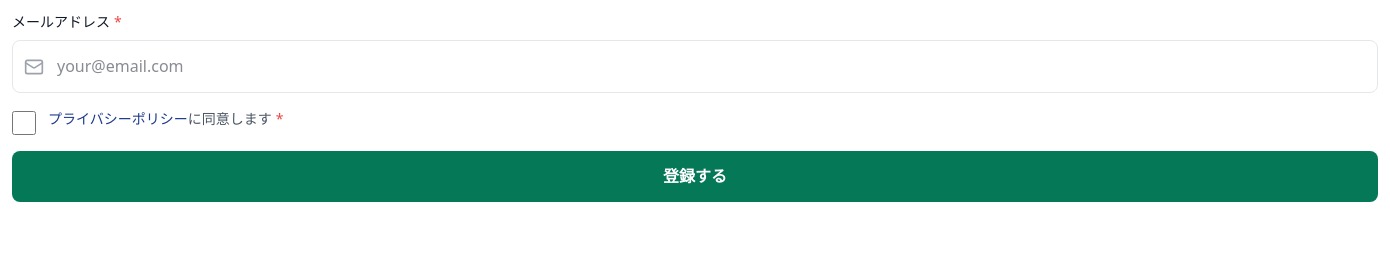
NewsletterSignupForm › should show validation error for invalid email
This screenshot has width=1390, height=275.
In the field labelled "メールアドレス*": (695, 67) top-left (12, 40), bottom-right (1378, 93), type "invalid-email"
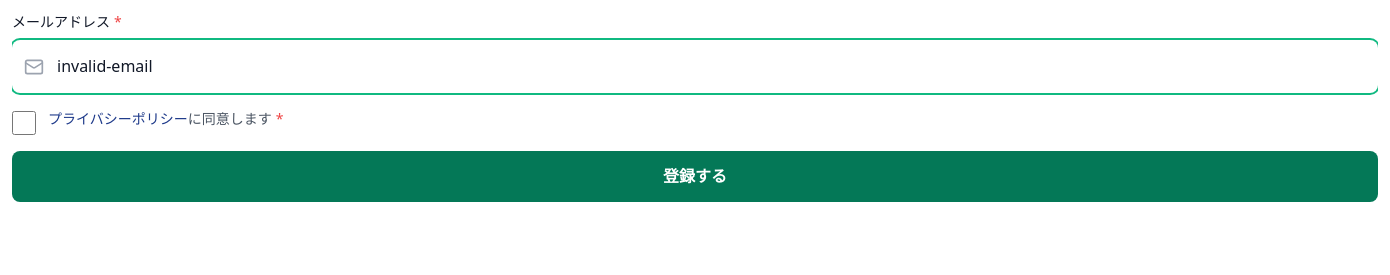
Click the button "登録する": (695, 177) top-left (12, 151), bottom-right (1378, 202)
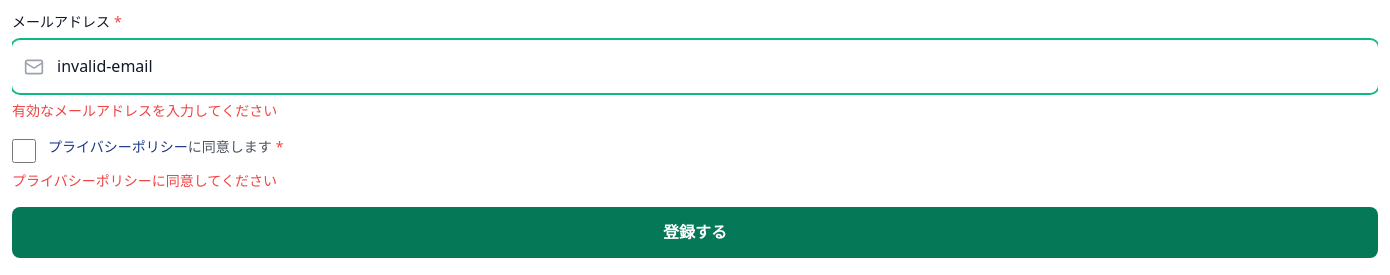
Result: the text "有効なメールアドレスを入力してください" is shown at top-left (12, 101), bottom-right (277, 120)
